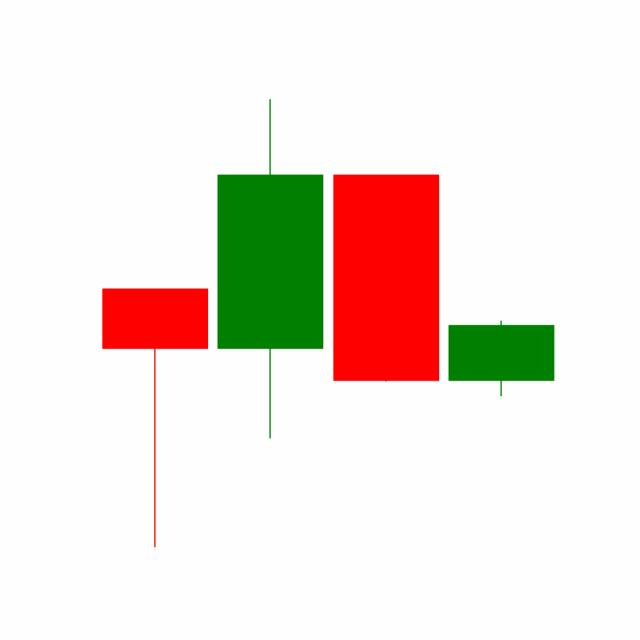Marubozu: (328, 172, 444, 384)
